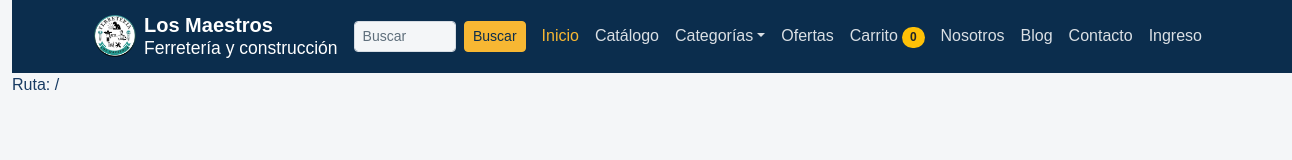
Test case: Header: búsqueda, categorías y ofertas › buscar vacío lleva al catálogo sin filtro
This screenshot has width=1292, height=160.
Click the button "Buscar". click: [495, 36]
box: [464, 21, 526, 52]
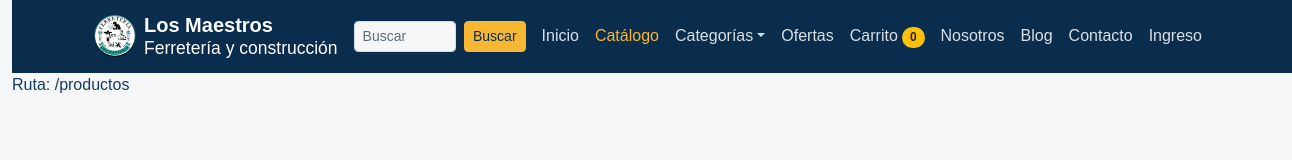
Expected: the text "Ruta: /productos" is shown, [12, 76, 129, 93]
